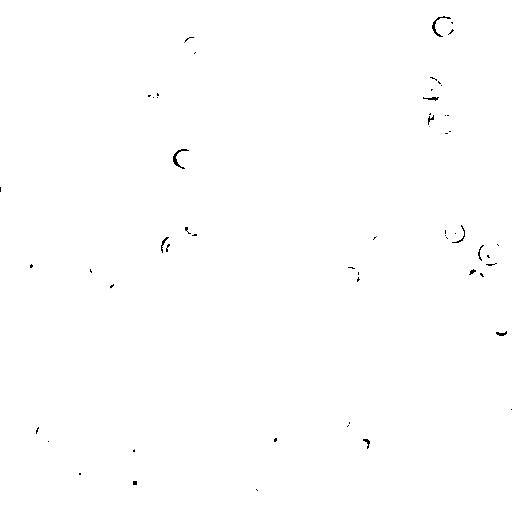micro-algae: (109, 453, 170, 511), (1, 36, 60, 94), (162, 387, 219, 447), (75, 249, 133, 306), (437, 60, 477, 102), (251, 463, 289, 501), (14, 243, 47, 280), (384, 281, 418, 316), (117, 463, 149, 498), (115, 0, 173, 19), (424, 444, 456, 477), (336, 339, 367, 372), (475, 237, 504, 269), (415, 73, 445, 103), (428, 106, 458, 135), (157, 235, 187, 262), (143, 242, 171, 269), (224, 38, 251, 64), (63, 459, 89, 485), (47, 391, 72, 416), (431, 13, 455, 37), (173, 147, 197, 170), (340, 264, 364, 287), (138, 83, 163, 105), (444, 221, 466, 245), (179, 35, 201, 58), (443, 275, 465, 297), (179, 219, 204, 238), (34, 421, 55, 443), (260, 426, 283, 445), (124, 438, 145, 458), (465, 267, 485, 288), (41, 121, 61, 141), (253, 473, 273, 493), (179, 424, 197, 446), (151, 287, 169, 307), (370, 231, 387, 252), (1, 183, 17, 205), (386, 243, 404, 261), (492, 319, 510, 337), (136, 0, 156, 14), (495, 403, 512, 419), (397, 0, 416, 14), (338, 412, 353, 429), (357, 436, 372, 453), (89, 259, 103, 276), (109, 281, 125, 294)
